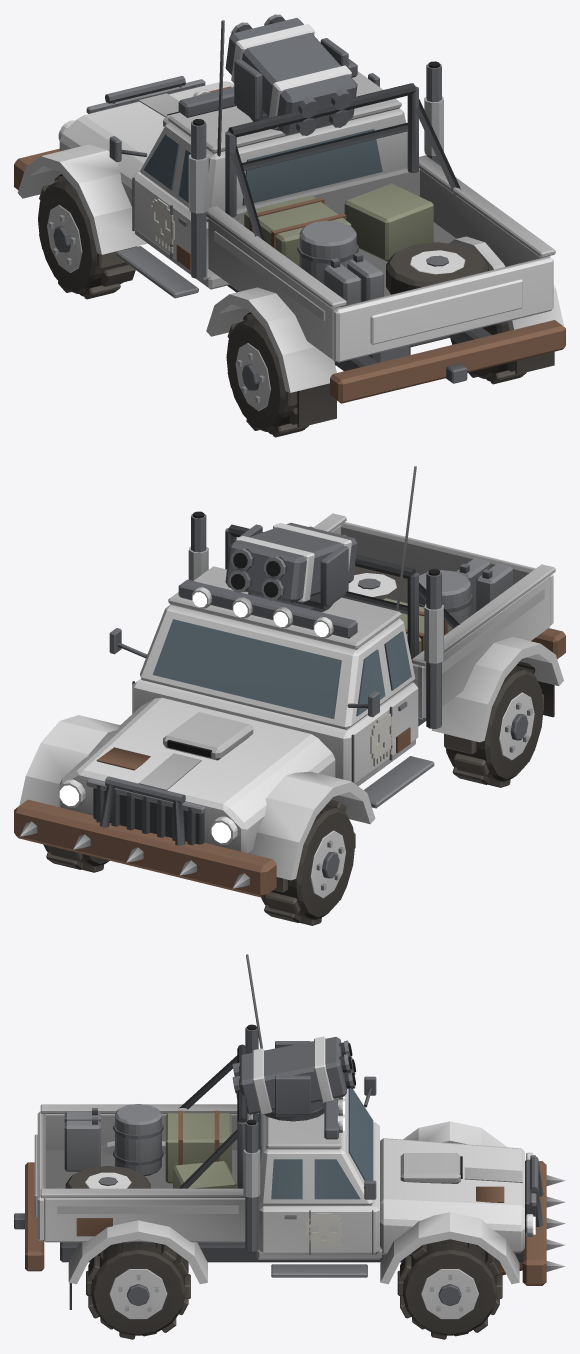
Rendered from wasteland_truck.glb.
3 views of the same model, one above another, from view 1: azimuth 30°, elevation 25°; view 2: azimuth 150°, elevation 25°; view 3: azimuth 270°, elevation 25° (orthographic). The views are drawn at different scales.
Visible parts, largest first — view 1: Neutral, Accent; view 2: Accent, Neutral, Lamp; view 3: Accent, Neutral.
Part boxes in pixels (x1=…): Neutral: x1=14, y1=14, x2=565, y2=437; Accent: x1=17, y1=24, x2=563, y2=410; Accent: x1=19, y1=513, x2=563, y2=898; Neutral: x1=14, y1=466, x2=565, y2=925; Lamp: x1=59, y1=592, x2=328, y2=843; Accent: x1=34, y1=1036, x2=533, y2=1319; Neutral: x1=14, y1=954, x2=565, y2=1339.
Size of the model in its own units: 2.16 by 2.7 by 4.57.
